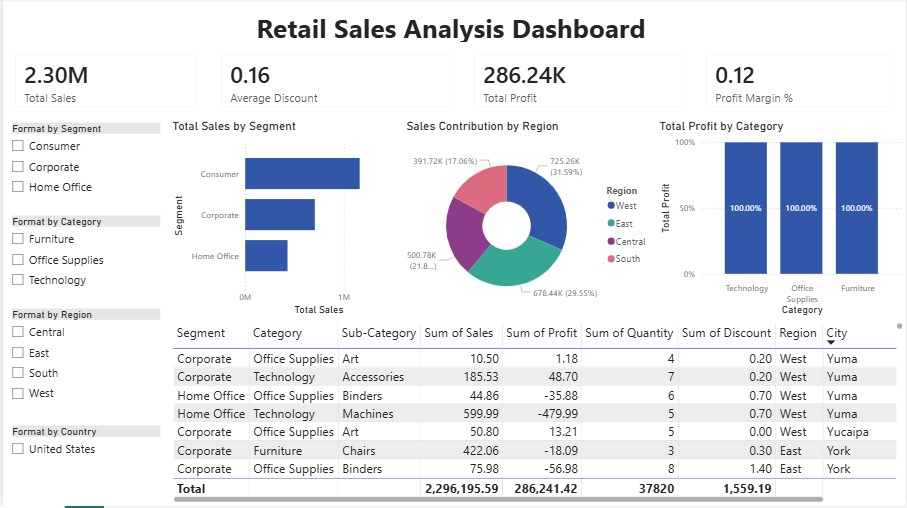

The page's visual inventory and layout, read from the dashboard file:
{"tool":"powerbi","page":{"name":"Page 1","canvas":[1280,720],"ordinal":0},"visuals":[{"type":"textbox","box":[354.3,11.3,571.2,60.9],"z":0},{"type":"cardVisual","fields":{"Data":["sales_cleaned.Total Sales"]},"box":[0,62.4,292,109.1],"z":1000},{"type":"cardVisual","fields":{"Data":["sales_cleaned.Average Discount"]},"box":[292,62.4,358.6,109.1],"z":2000},{"type":"cardVisual","fields":{"Data":["sales_cleaned.Total Profit"]},"box":[650.6,62.4,328.8,109.1],"z":3000},{"type":"cardVisual","fields":{"Data":["sales_cleaned.Profit Margin %"]},"box":[979.4,62.4,300.5,109.1],"z":4000},{"type":"clusteredBarChart","fields":{"Category":["sales_cleaned.Segment"],"Y":["sales_cleaned.Total Sales"]},"box":[235.3,171.5,331.7,283.5],"z":5000},{"type":"donutChart","title":"Sales Contribution by Region","fields":{"Category":["sales_cleaned.Region"],"Y":["sales_cleaned.Total Sales"]},"box":[566.9,171.5,358.6,283.5],"z":6000},{"type":"hundredPercentStackedColumnChart","fields":{"Category":["sales_cleaned.Category"],"Y":["sales_cleaned.Total Profit"]},"box":[925.5,171.5,354.3,283.5],"z":7000},{"type":"tableEx","fields":{"Values":["sales_cleaned.Segment","sales_cleaned.Category","sales_cleaned.Sub-Category","Sum(sales_cleaned.Sales)","Sum(sales_cleaned.Profit)","Sum(sales_cleaned.Quantity)","Sum(sales_cleaned.Discount)","sales_cleaned.Region","sales_cleaned.City","sales_cleaned.Country"]},"box":[235.3,455,1044.6,265],"z":8000},{"type":"slicer","fields":{"Values":["sales_cleaned.Category"]},"box":[0,303.2,236,131.6],"z":9000},{"type":"slicer","fields":{"Values":["sales_cleaned.Segment"]},"box":[0,171.6,236,131.6],"z":10000},{"type":"slicer","fields":{"Values":["sales_cleaned.Region"]},"box":[0,434.8,236,165.9],"z":11000},{"type":"slicer","fields":{"Values":["sales_cleaned.Country"]},"box":[0,600.7,236,118.7],"z":12000}]}

Visuals, with their boxes in screenshot pixels (x1, y1, x2, y2), scaled from the page's 1280x720 canvas onto the 907x508 screenshot:
textbox: (251,8,656,51)
cardVisual - sales_cleaned.Total Sales: (0,44,207,121)
cardVisual - sales_cleaned.Average Discount: (207,44,461,121)
cardVisual - sales_cleaned.Total Profit: (461,44,694,121)
cardVisual - sales_cleaned.Profit Margin %: (694,44,906,121)
clusteredBarChart - sales_cleaned.Segment x sales_cleaned.Total Sales: (167,121,402,321)
"Sales Contribution by Region" donutChart: (402,121,656,321)
hundredPercentStackedColumnChart - sales_cleaned.Category x sales_cleaned.Total Profit: (656,121,906,321)
tableEx - sales_cleaned.Segment x sales_cleaned.Category: (167,321,906,507)
slicer - sales_cleaned.Category: (0,214,167,307)
slicer - sales_cleaned.Segment: (0,121,167,214)
slicer - sales_cleaned.Region: (0,307,167,424)
slicer - sales_cleaned.Country: (0,424,167,507)
